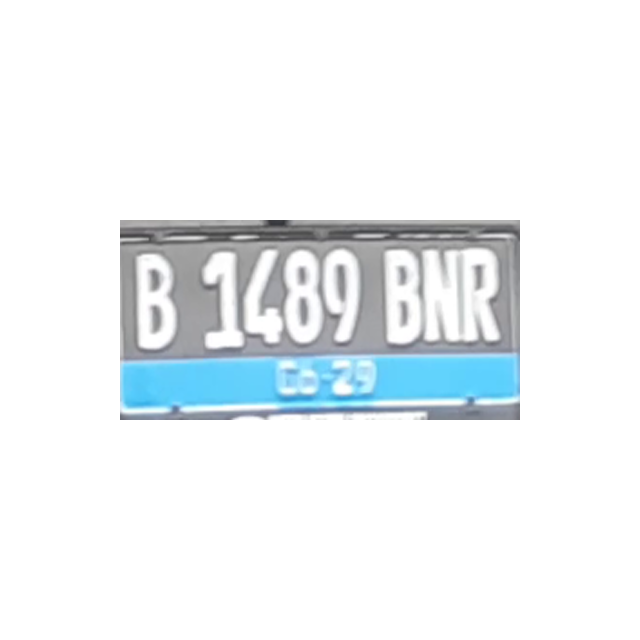contain: (135, 248, 178, 351), (200, 247, 243, 350), (282, 246, 322, 348), (322, 243, 362, 345), (383, 245, 423, 347), (421, 243, 461, 345), (461, 244, 501, 346), (243, 246, 282, 347)
